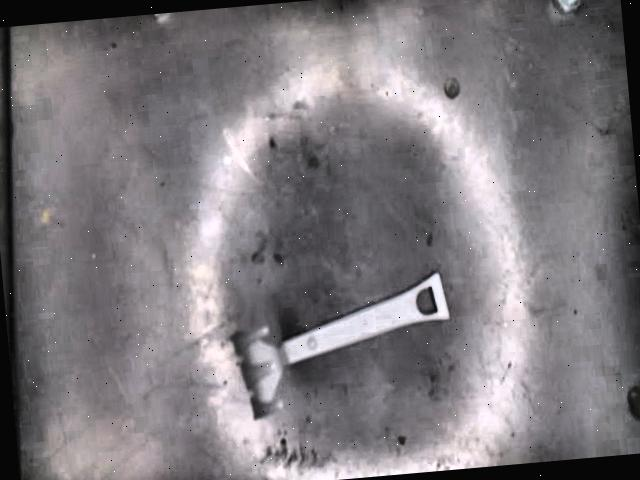Plastic: (233, 269, 449, 421)
